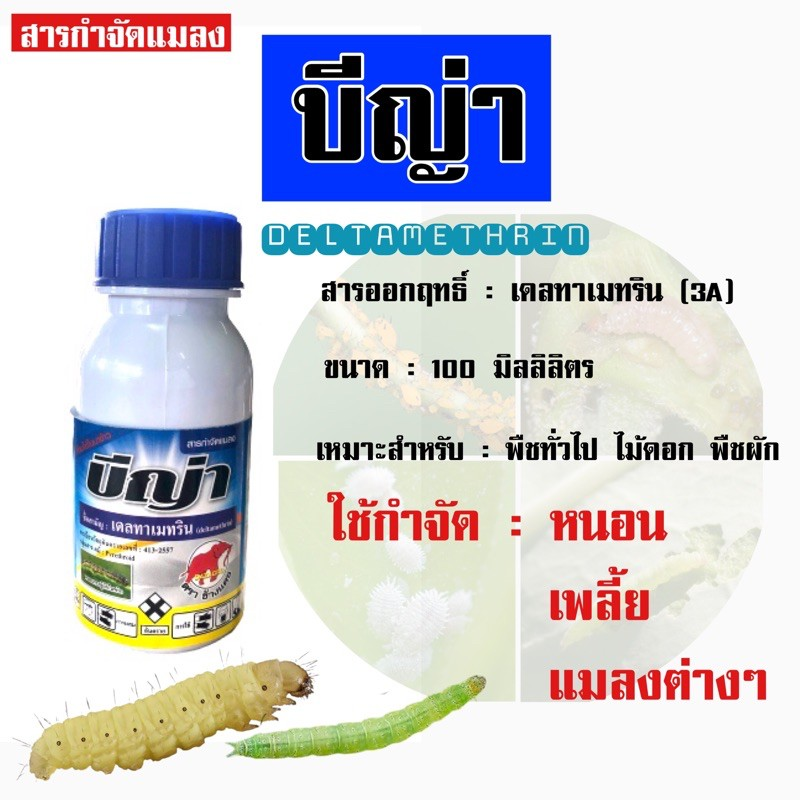Insecticide: (63, 197, 257, 681)
